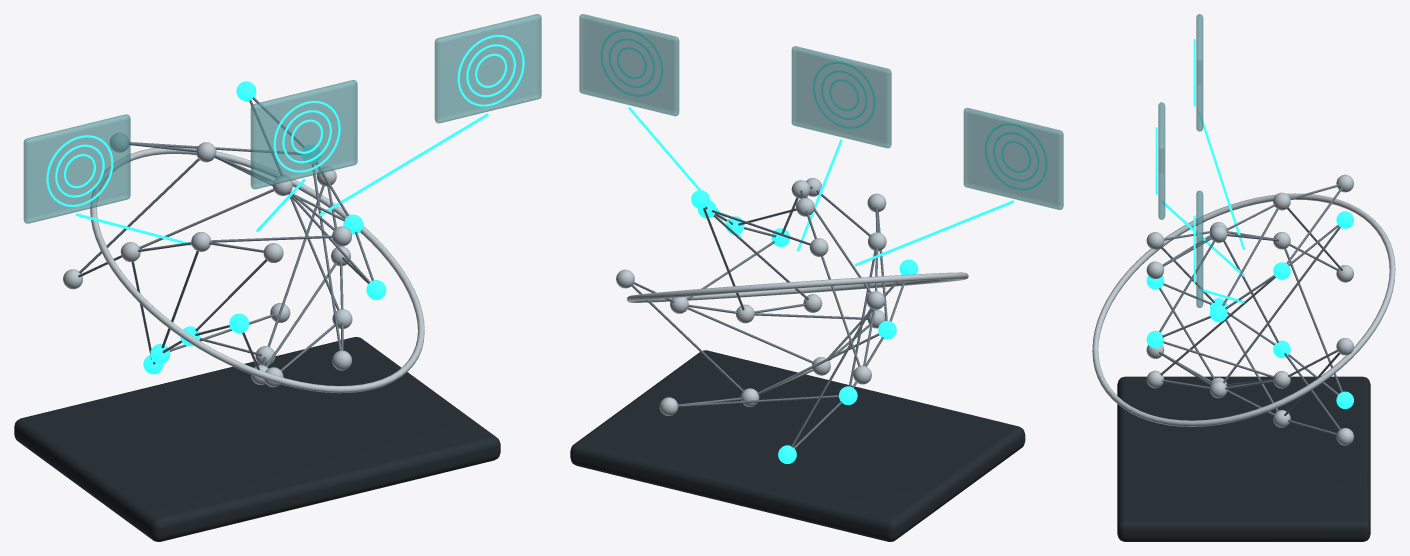
Rendered from ai-research.glb.
3 renders of one model, left to right at view 1: azimuth 30°, elevation 25°; view 2: azimuth 150°, elevation 25°; view 3: azimuth 270°, elevation 25°, orthographic. The views are drawn at different scales.
Visible parts, largest first — view 1: Neural pedestal, Input_View_0, Input_View_1, Input_View_2, Latent orbit, Input projection.002; view 2: Neural pedestal, Input_View_1, Input_View_0, Input_View_2, Latent orbit; view 3: Neural pedestal, Latent orbit, Input_View_1, Input_View_2, Input_View_0, Feature connection.023, Input projection, Feature connection.029, Feature connection.011.
Boxes of the visible parts, x1,y1,x2,y2 form: Neural pedestal: [14, 337, 500, 541]; Input_View_0: [23, 114, 130, 223]; Input_View_1: [250, 80, 357, 189]; Input_View_2: [434, 14, 541, 123]; Latent orbit: [90, 147, 424, 393]; Input projection.002: [318, 113, 488, 216]; Neural pedestal: [570, 350, 1025, 541]; Input_View_1: [791, 46, 891, 148]; Input_View_0: [963, 107, 1063, 209]; Input_View_2: [579, 14, 679, 116]; Latent orbit: [627, 272, 968, 302]; Neural pedestal: [1117, 376, 1370, 541]; Latent orbit: [1092, 193, 1395, 426]; Input_View_1: [1158, 102, 1165, 219]; Input_View_2: [1196, 190, 1203, 307]; Input_View_0: [1196, 14, 1203, 131]; Feature connection.023: [1223, 226, 1340, 383]; Input projection: [1199, 112, 1244, 249]; Feature connection.029: [1284, 248, 1342, 392]; Feature connection.011: [1160, 277, 1275, 375].
Size of the model in its own units: 4.15 by 3.01 by 2.4.
